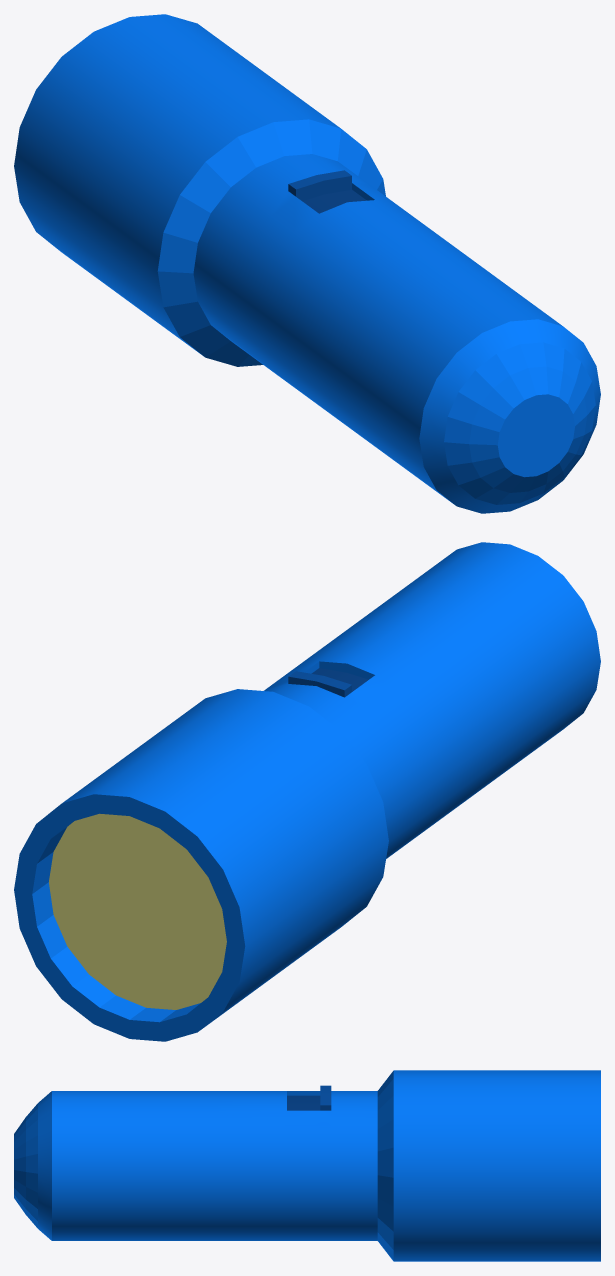
Rendered from Torch.fbx.
3 renders of one model, top to bottom at view 1: azimuth 30°, elevation 25°; view 2: azimuth 150°, elevation 25°; view 3: azimuth 270°, elevation 25°, orthographic. The views are drawn at different scales.
Parts seen in each view (by area): view 1: pCylinder1; view 2: pCylinder1; view 3: pCylinder1.
Part boxes in pixels (x1,y1,x2,y2): pCylinder1: (14,14,600,513); pCylinder1: (14,542,600,1041); pCylinder1: (14,1070,600,1261).
Bounding box in the file's own units: 2.55 × 2.55 × 7.76.
